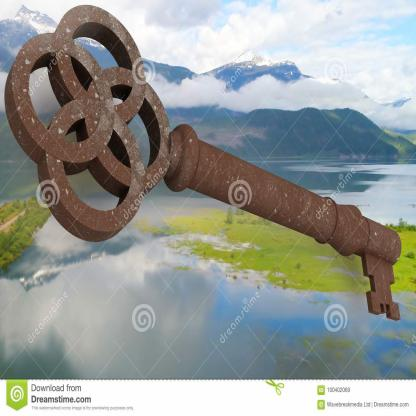key: (4, 5, 401, 324)
